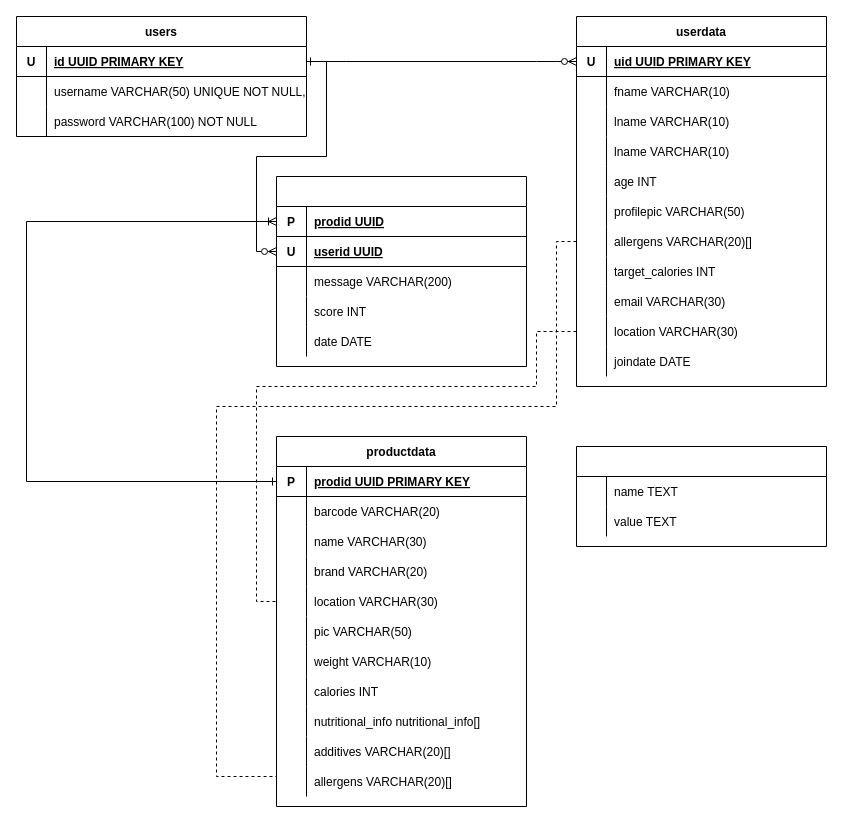
The diagram is 843 pixels wide and 823 high, and some of its shapes have lost their labels. Here are the shapes that lost their labels. From the top down, the box of each, then its label:
(276, 176, 526, 366): productreview
(576, 446, 826, 546): nutritional_info [TYPE]
